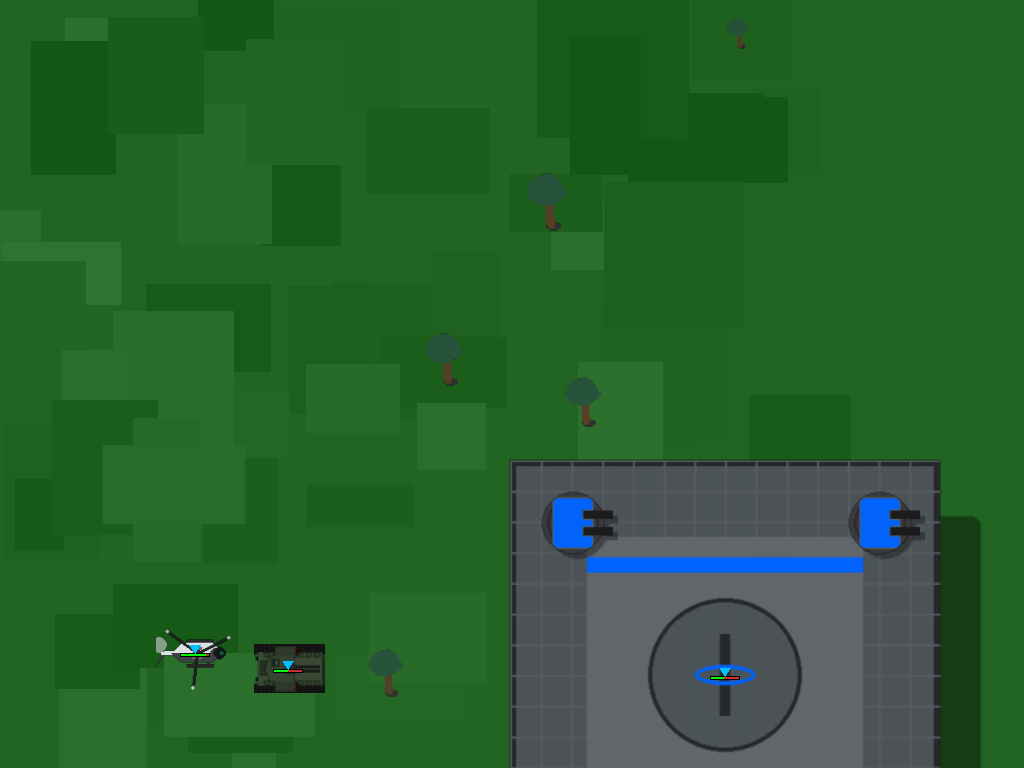FighterJet_usa: (474, 423, 804, 768)
Mi24: (260, 639, 317, 696)
Type99: (174, 630, 216, 672)
